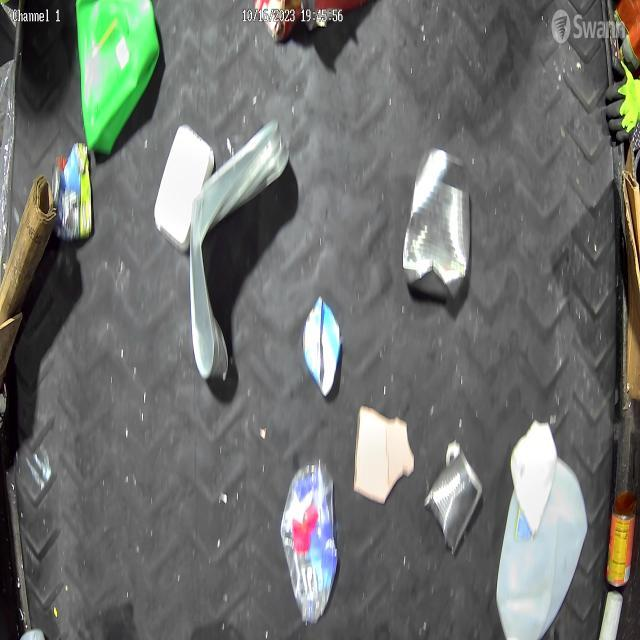can: (401, 146, 472, 306), (424, 444, 484, 556), (49, 141, 94, 243), (302, 293, 344, 399)
milk_jug: (494, 449, 588, 640)
non_white_jug: (74, 0, 160, 157)
